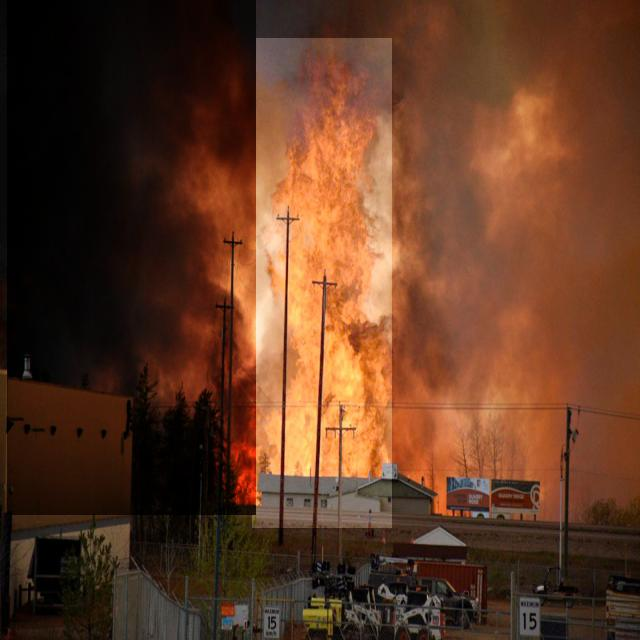Fire: (252, 38, 392, 528)
Smoke: (7, 0, 256, 515)
